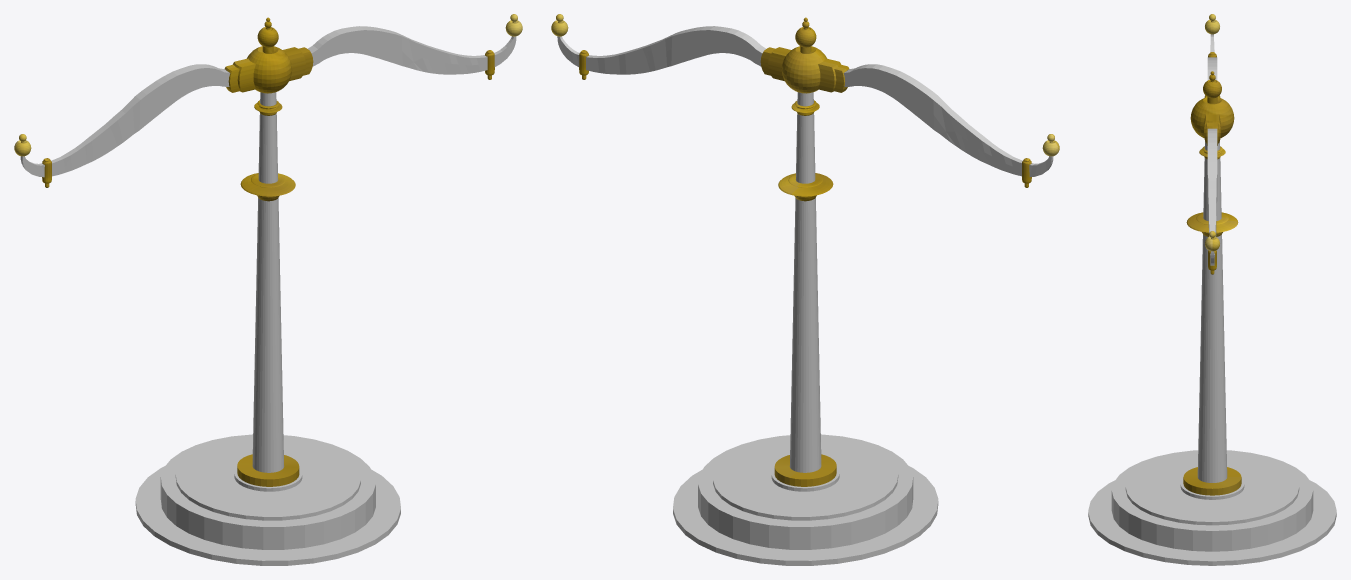
The model's file is balanzaPrincipal.fbx.
3 renders of one model, left to right at view 1: azimuth 30°, elevation 25°; view 2: azimuth 150°, elevation 25°; view 3: azimuth 270°, elevation 25°, orthographic. The views are drawn at different scales.
Parts seen in each view (by area): view 1: Sphere.002; view 2: Sphere.002; view 3: Sphere.002.
Boxes of the visible parts, left/top/right/bottom form: Sphere.002: left=14, top=14, right=522, bottom=565; Sphere.002: left=551, top=14, right=1059, bottom=565; Sphere.002: left=1088, top=14, right=1336, bottom=565.
Size of the model in its own units: 769 by 713 by 362.
